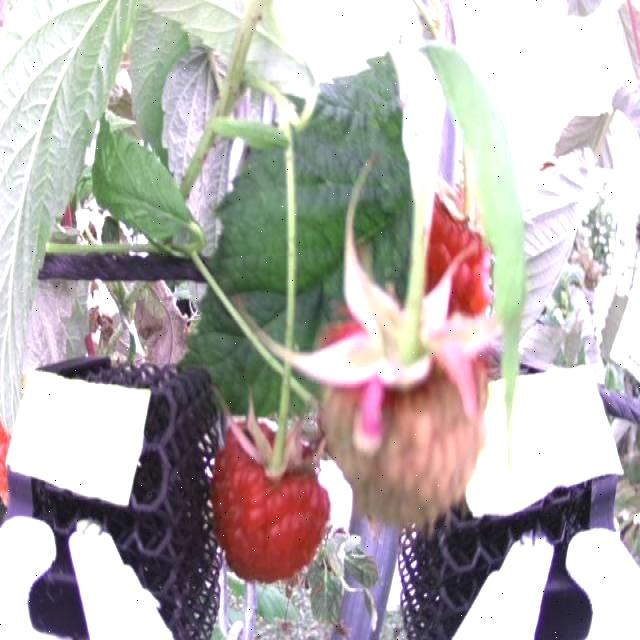Riped berries: (208, 407, 333, 584), (416, 188, 516, 322)
